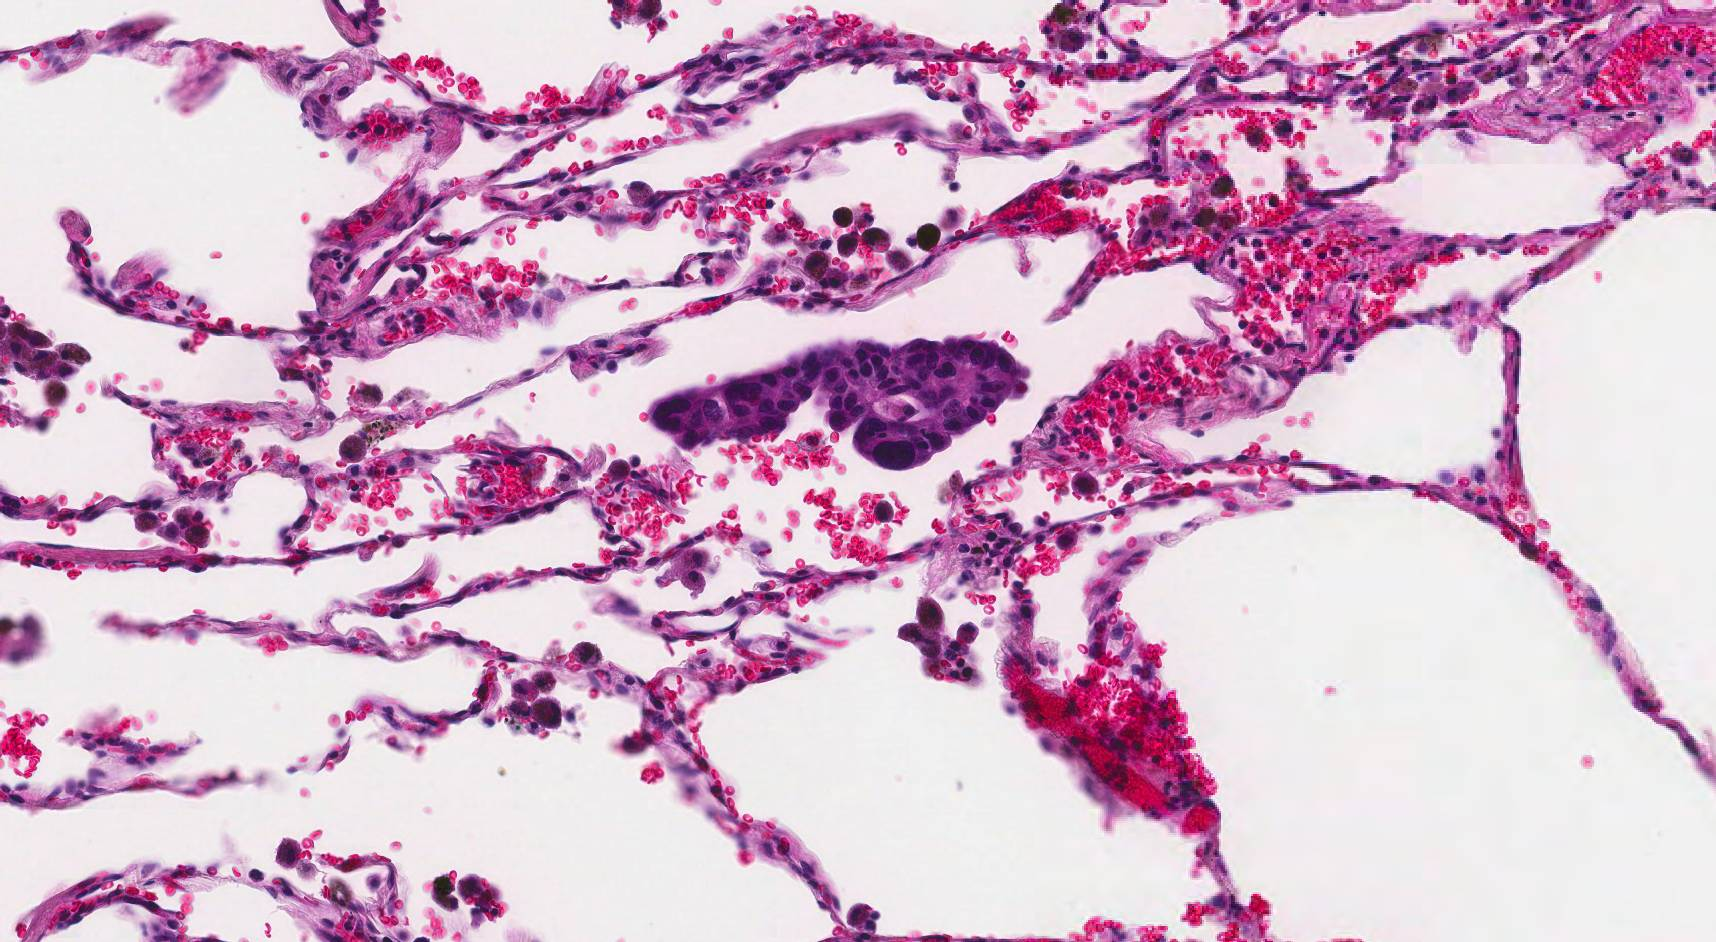stas: (649, 335, 1033, 473)
